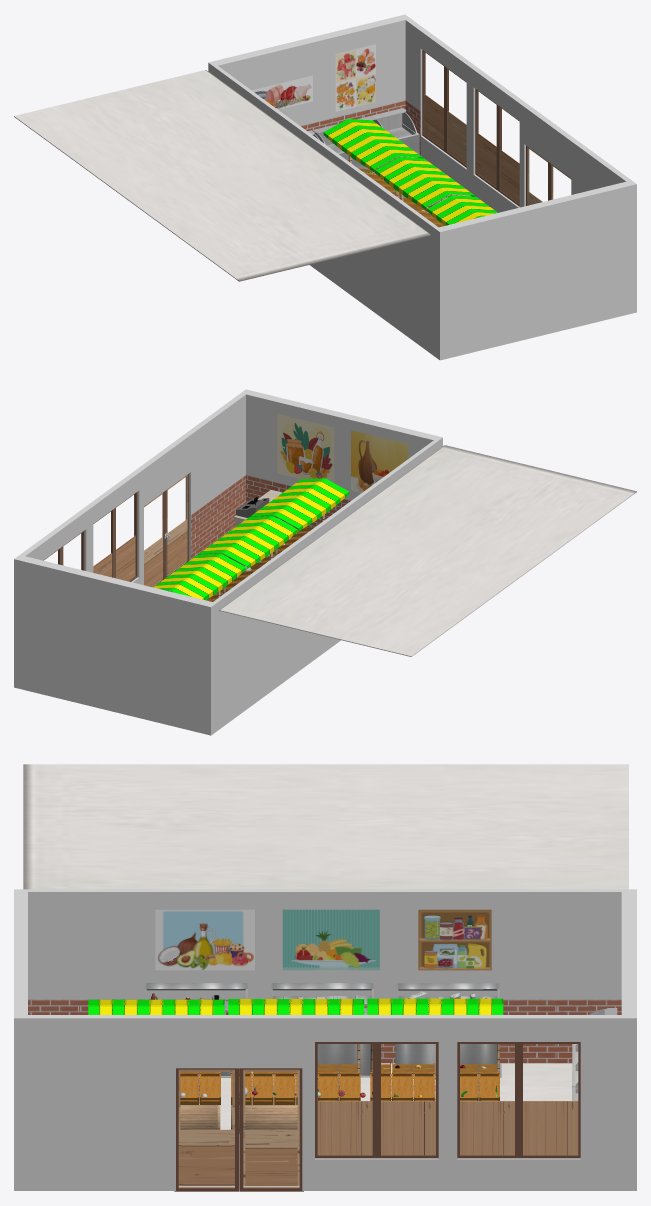
The model's file is mercado3.fbx.
3 renders of one model, top to bottom at view 1: azimuth 30°, elevation 25°; view 2: azimuth 150°, elevation 25°; view 3: azimuth 270°, elevation 25°, orthographic. The views are drawn at different scales.
Parts seen in each view (by area): view 1: Cubo.016, Plano.012, Plane010, Plane010.002, Plano.005, Cubo, Plane010.001, Plano.006, Cubo.027, Cubo.023, Cubo.022, Cubo.025 (+3 smaller); view 2: Cubo.016, Plano.012, Plano.013, Plane010.001, Plane010, Plane010.002, Plano.011, Plano.009, Cubo.029, Cubo.031, Plano.014, Cubo.025 (+1 smaller); view 3: Cubo.016, Plano.012, Plano.002, Plano.001, Plano.003, Cubo.031, Cubo.029, Plano, Plano.004, Cubo.027, Cubo.025, Cubo.022 (+26 smaller).
Part boxes in pixels (x1=…): Cubo.016: x1=208, y1=14, x2=636, y2=360; Plano.012: x1=14, y1=70, x2=431, y2=281; Plane010: x1=375, y1=157, x2=474, y2=209; Plane010.002: x1=323, y1=119, x2=422, y2=171; Plano.005: x1=335, y1=44, x2=375, y2=111; Cubo: x1=312, y1=108, x2=419, y2=172; Plane010.001: x1=427, y1=195, x2=497, y2=225; Plano.006: x1=252, y1=75, x2=312, y2=109; Cubo.027: x1=424, y1=94, x2=443, y2=148; Cubo.023: x1=477, y1=132, x2=496, y2=186; Cubo.022: x1=447, y1=111, x2=466, y2=164; Cubo.025: x1=500, y1=150, x2=519, y2=203; Cubo.016: x1=14, y1=389, x2=442, y2=735; Plano.012: x1=219, y1=445, x2=636, y2=656; Plano.013: x1=277, y1=413, x2=334, y2=482; Plane010.001: x1=250, y1=478, x2=349, y2=531; Plane010: x1=198, y1=516, x2=297, y2=568; Plane010.002: x1=153, y1=553, x2=245, y2=600; Plano.011: x1=351, y1=430, x2=408, y2=492; Plano.009: x1=191, y1=475, x2=245, y2=559; Cubo.029: x1=167, y1=475, x2=187, y2=575; Cubo.031: x1=144, y1=493, x2=163, y2=586; Plano.014: x1=246, y1=474, x2=351, y2=533; Cubo.025: x1=116, y1=535, x2=135, y2=581; Cubo.016: x1=14, y1=889, x2=636, y2=1190; Plano.012: x1=23, y1=764, x2=628, y2=889; Plano.002: x1=155, y1=909, x2=254, y2=970; Plano.001: x1=282, y1=909, x2=379, y2=970; Plano.003: x1=418, y1=909, x2=491, y2=970; Cubo.031: x1=243, y1=1069, x2=299, y2=1186; Cubo.029: x1=178, y1=1069, x2=234, y2=1186; Plano: x1=178, y1=1063, x2=572, y2=1188; Plano.004: x1=364, y1=999, x2=621, y2=1063; Cubo.027: x1=523, y1=1101, x2=578, y2=1155; Cubo.025: x1=317, y1=1101, x2=372, y2=1155; Cubo.022: x1=460, y1=1101, x2=514, y2=1155.
Bounding box in the file's own units: 991 × 312 × 1009.
